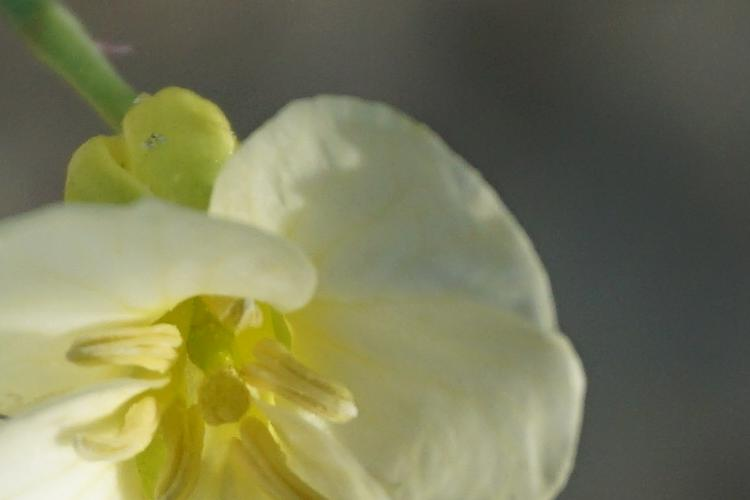white: (22, 89, 583, 500)
